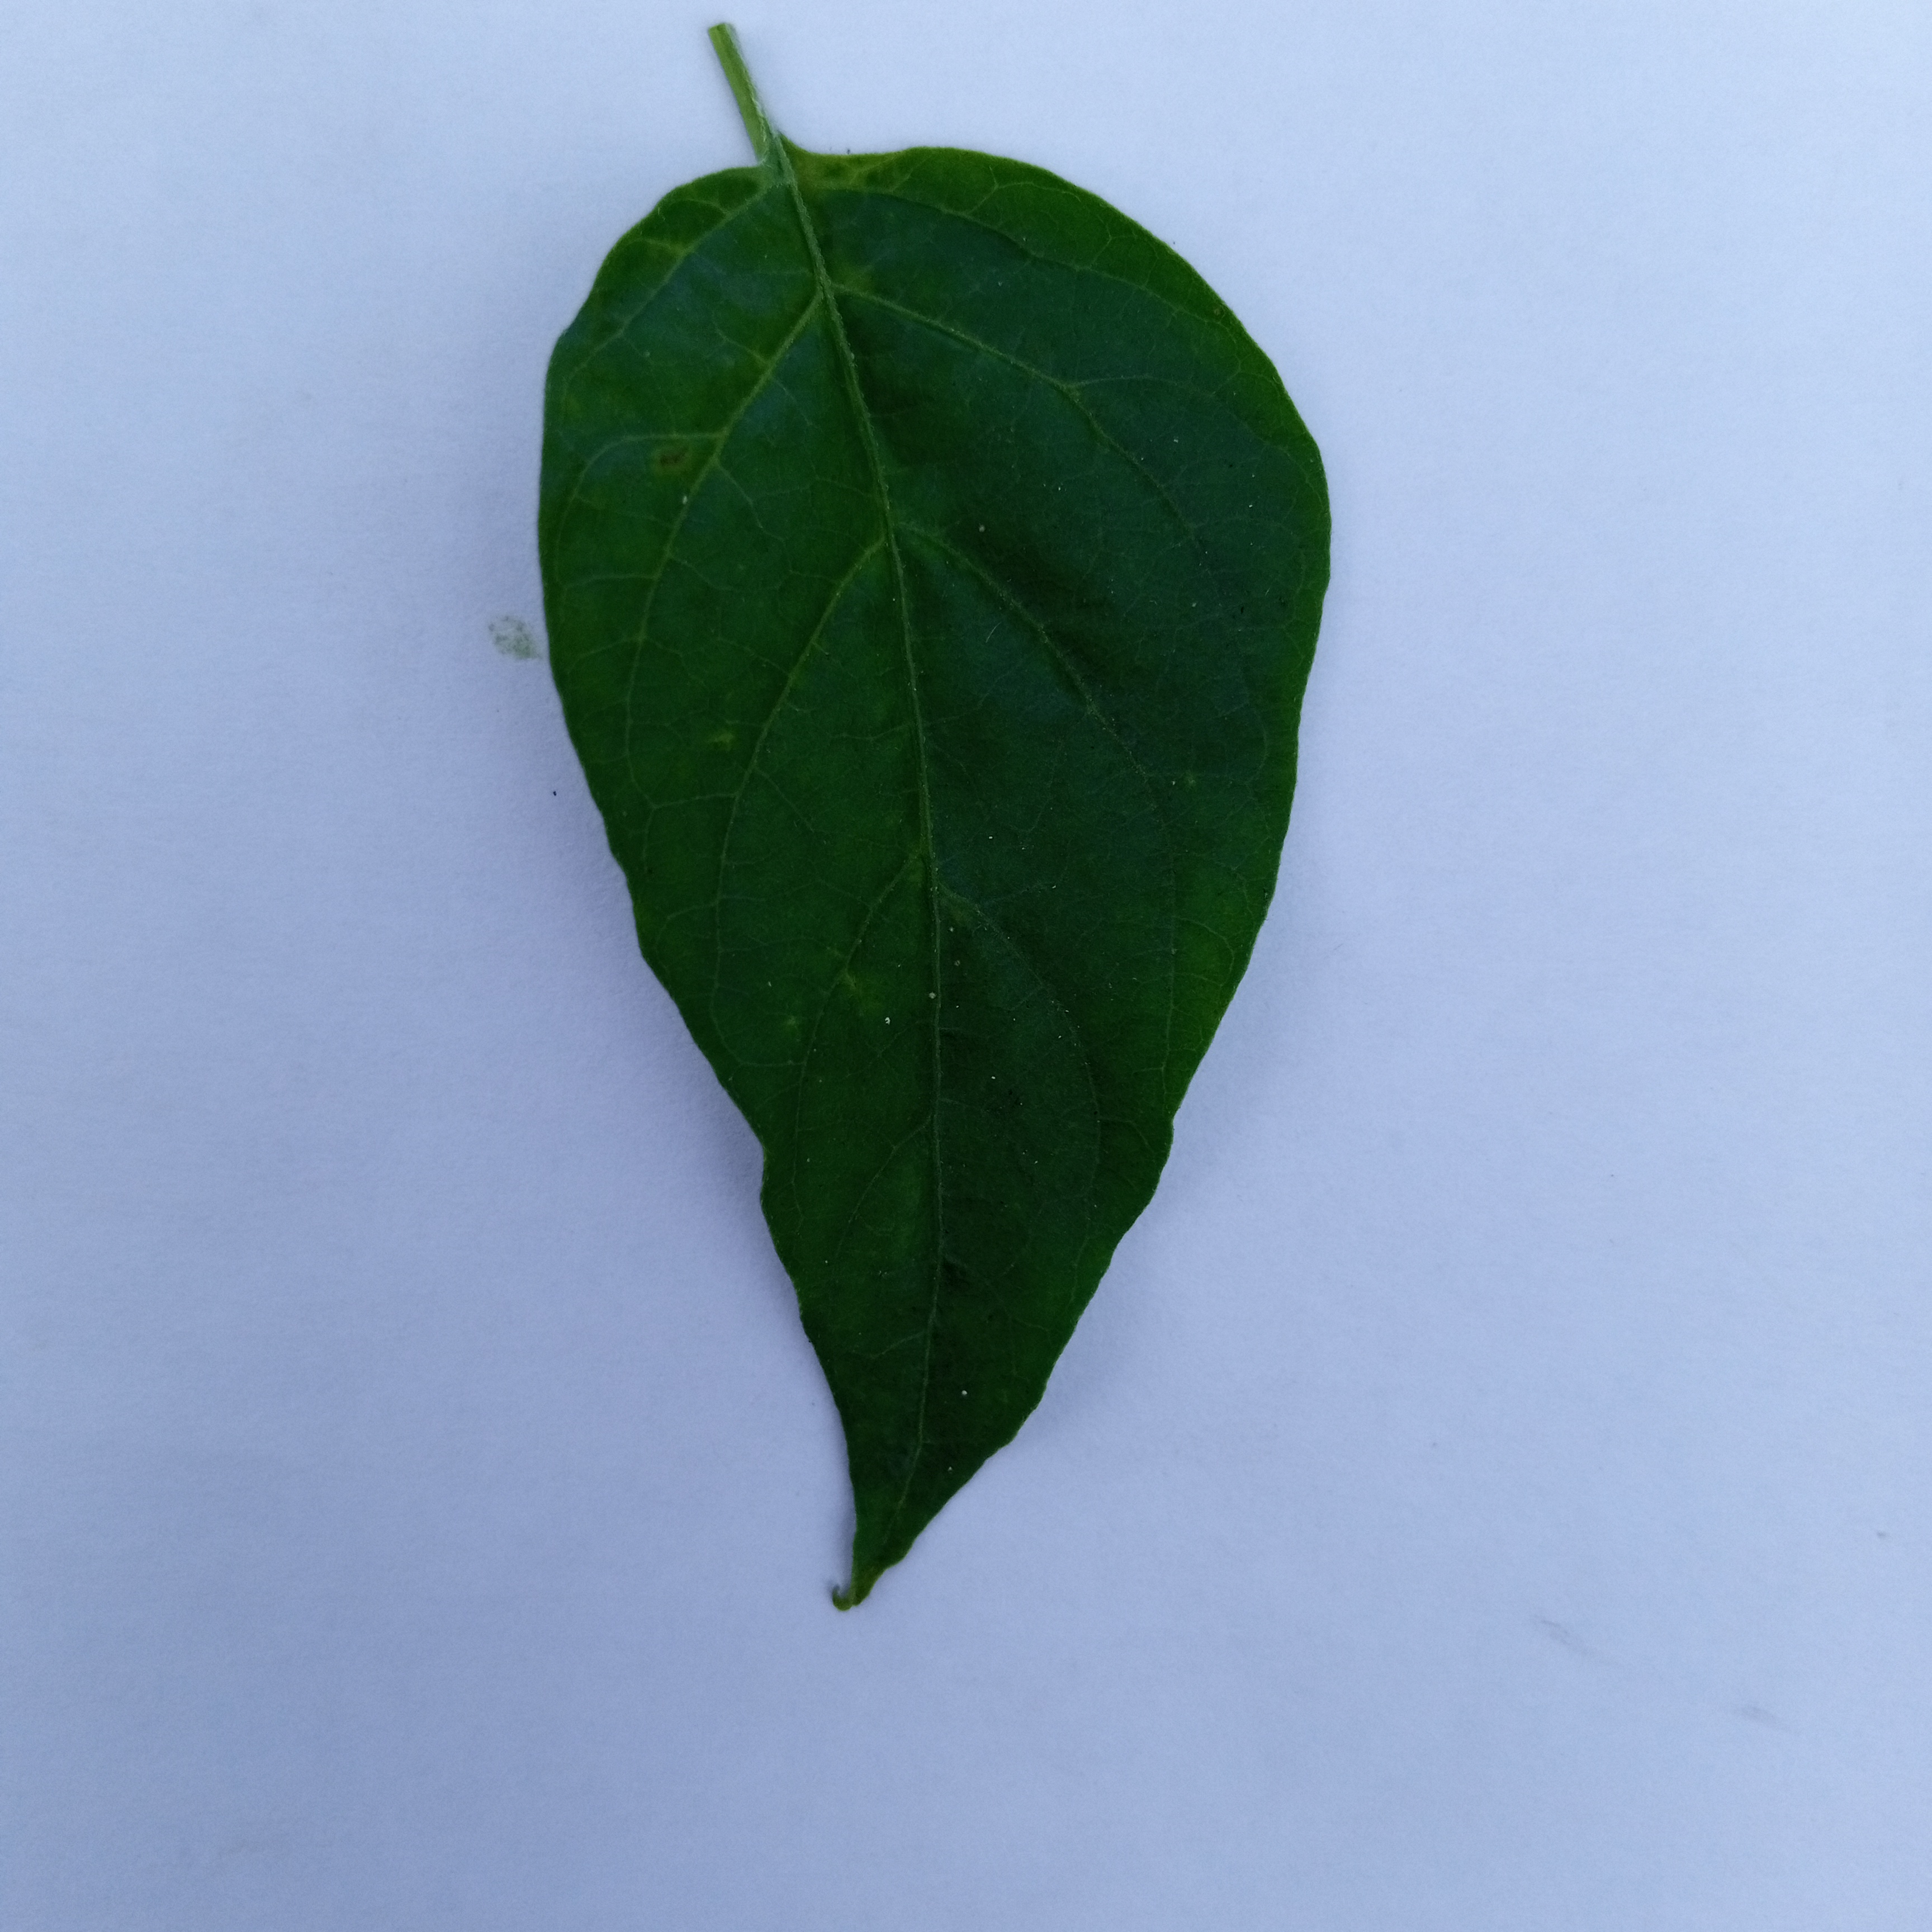Leaf: (412, 113, 1378, 1637)
